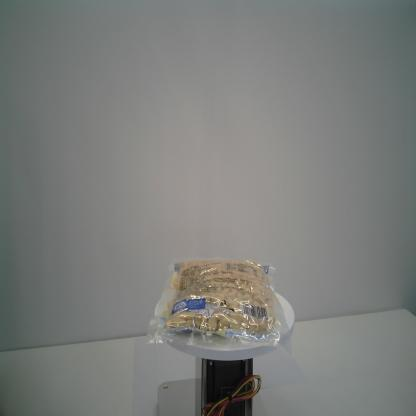Dried Fruit: (144, 255, 293, 358)
